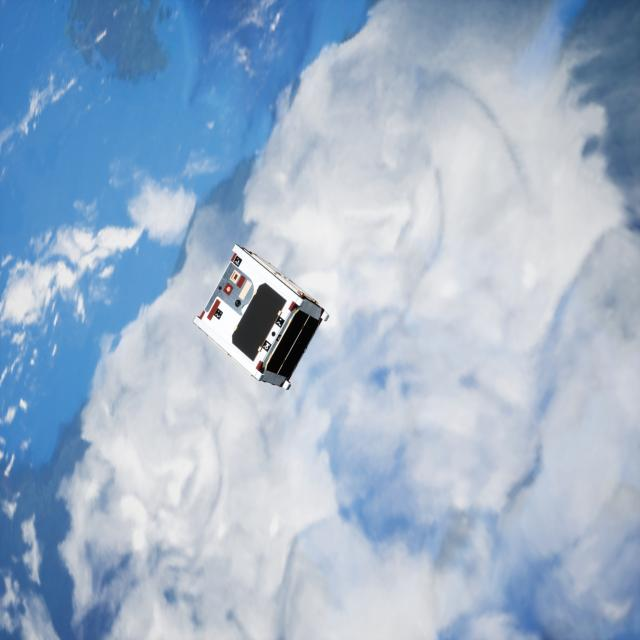medium_debris: (192, 242, 333, 389)
